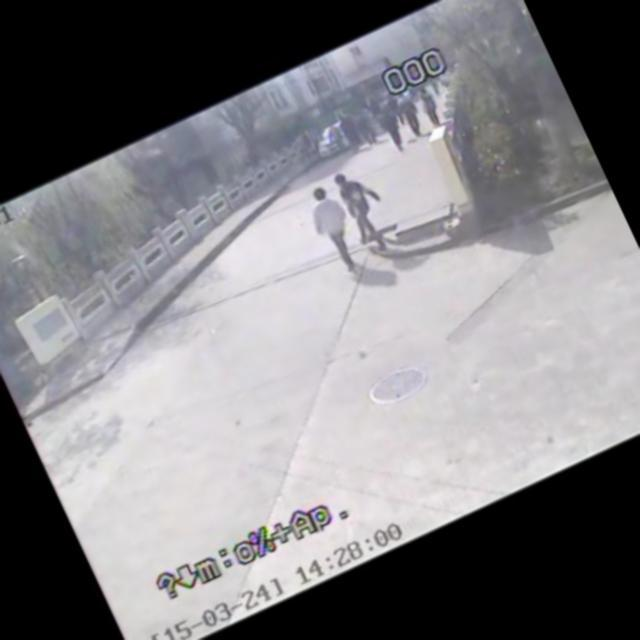person: (302, 180, 376, 286), (332, 158, 405, 255), (392, 90, 433, 146), (372, 106, 412, 158), (414, 82, 452, 128), (288, 134, 318, 172), (354, 110, 384, 148), (339, 112, 366, 151), (324, 122, 351, 156)
